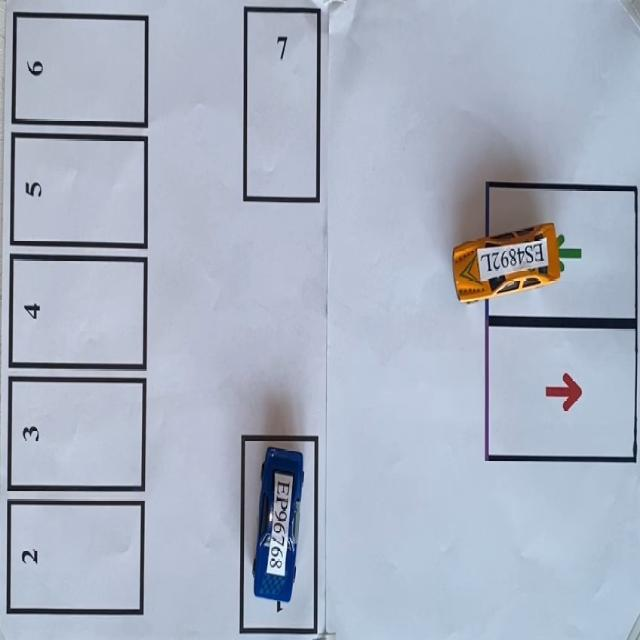car: (453, 223, 561, 302), (254, 448, 303, 610)
